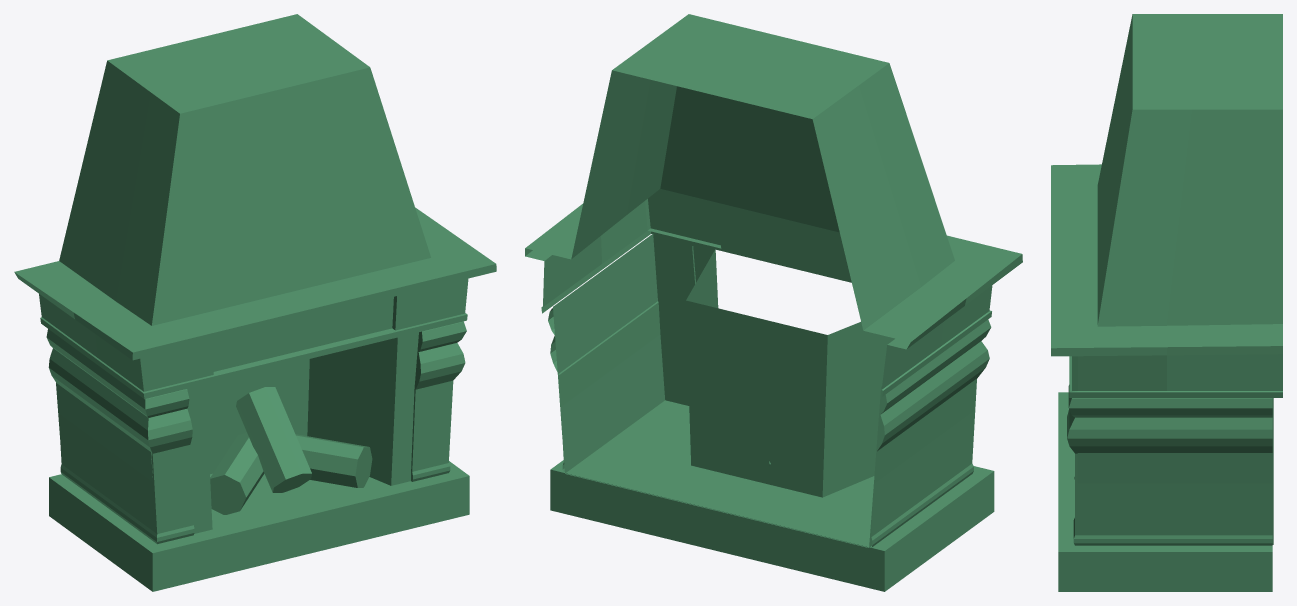
The model's file is Fireplace_V2.fbx.
The picture shows the model from 3 angles, left to right: view 1: azimuth 30°, elevation 25°; view 2: azimuth 150°, elevation 25°; view 3: azimuth 270°, elevation 25°; orthographic projection. The views are drawn at different scales.
Parts seen in each view (by area): view 1: Fireplace; view 2: Fireplace; view 3: Fireplace.
Part boxes in pixels (<box>): Fireplace: <box>14,14,496,591</box>; Fireplace: <box>525,14,1022,591</box>; Fireplace: <box>1051,14,1282,591</box>.
Size of the model in its own units: 354 by 399 by 186.
